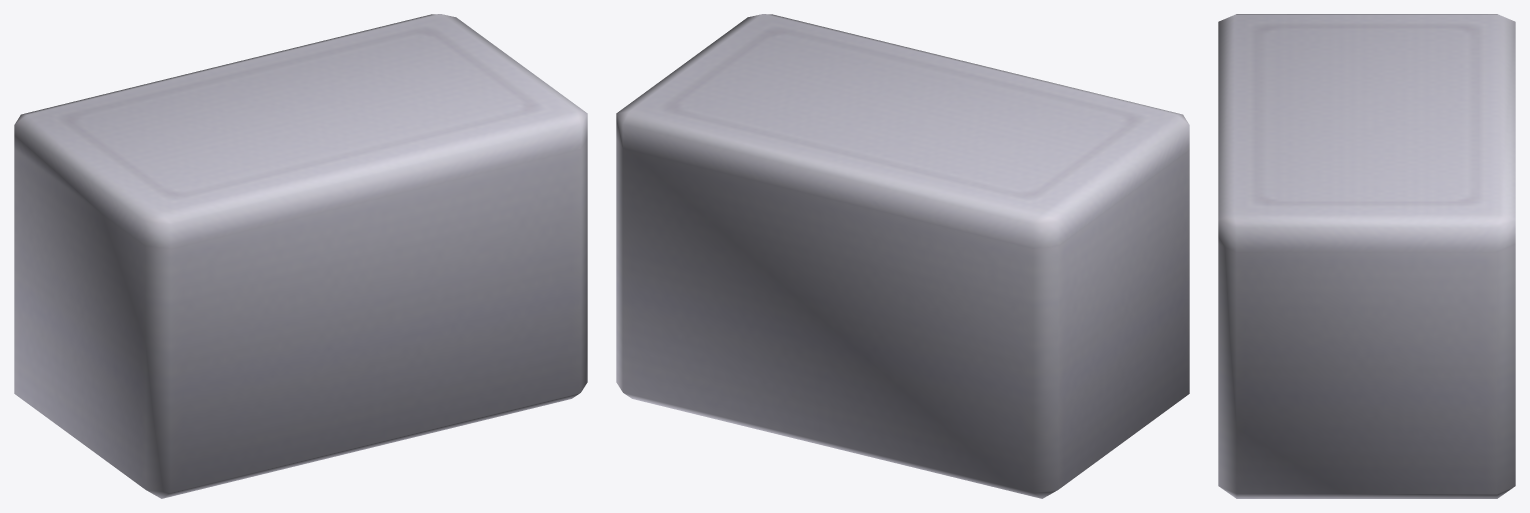
File: jsf_StyreneFoamBox_01.fbx
3 views of the same model, side by side, from view 1: azimuth 30°, elevation 25°; view 2: azimuth 150°, elevation 25°; view 3: azimuth 270°, elevation 25° (orthographic).
Visible parts, largest first — view 1: Box, Lid; view 2: Box, Lid; view 3: Box, Lid.
Boxes of the visible parts, box(x1,y1,x2,y2) form: Box: box(14, 138, 587, 498); Lid: box(14, 14, 587, 248); Box: box(616, 138, 1189, 498); Lid: box(616, 14, 1189, 248); Box: box(1218, 244, 1515, 498); Lid: box(1218, 14, 1515, 251).
Size of the model in its own units: 56.26 by 34.96 by 33.04.
